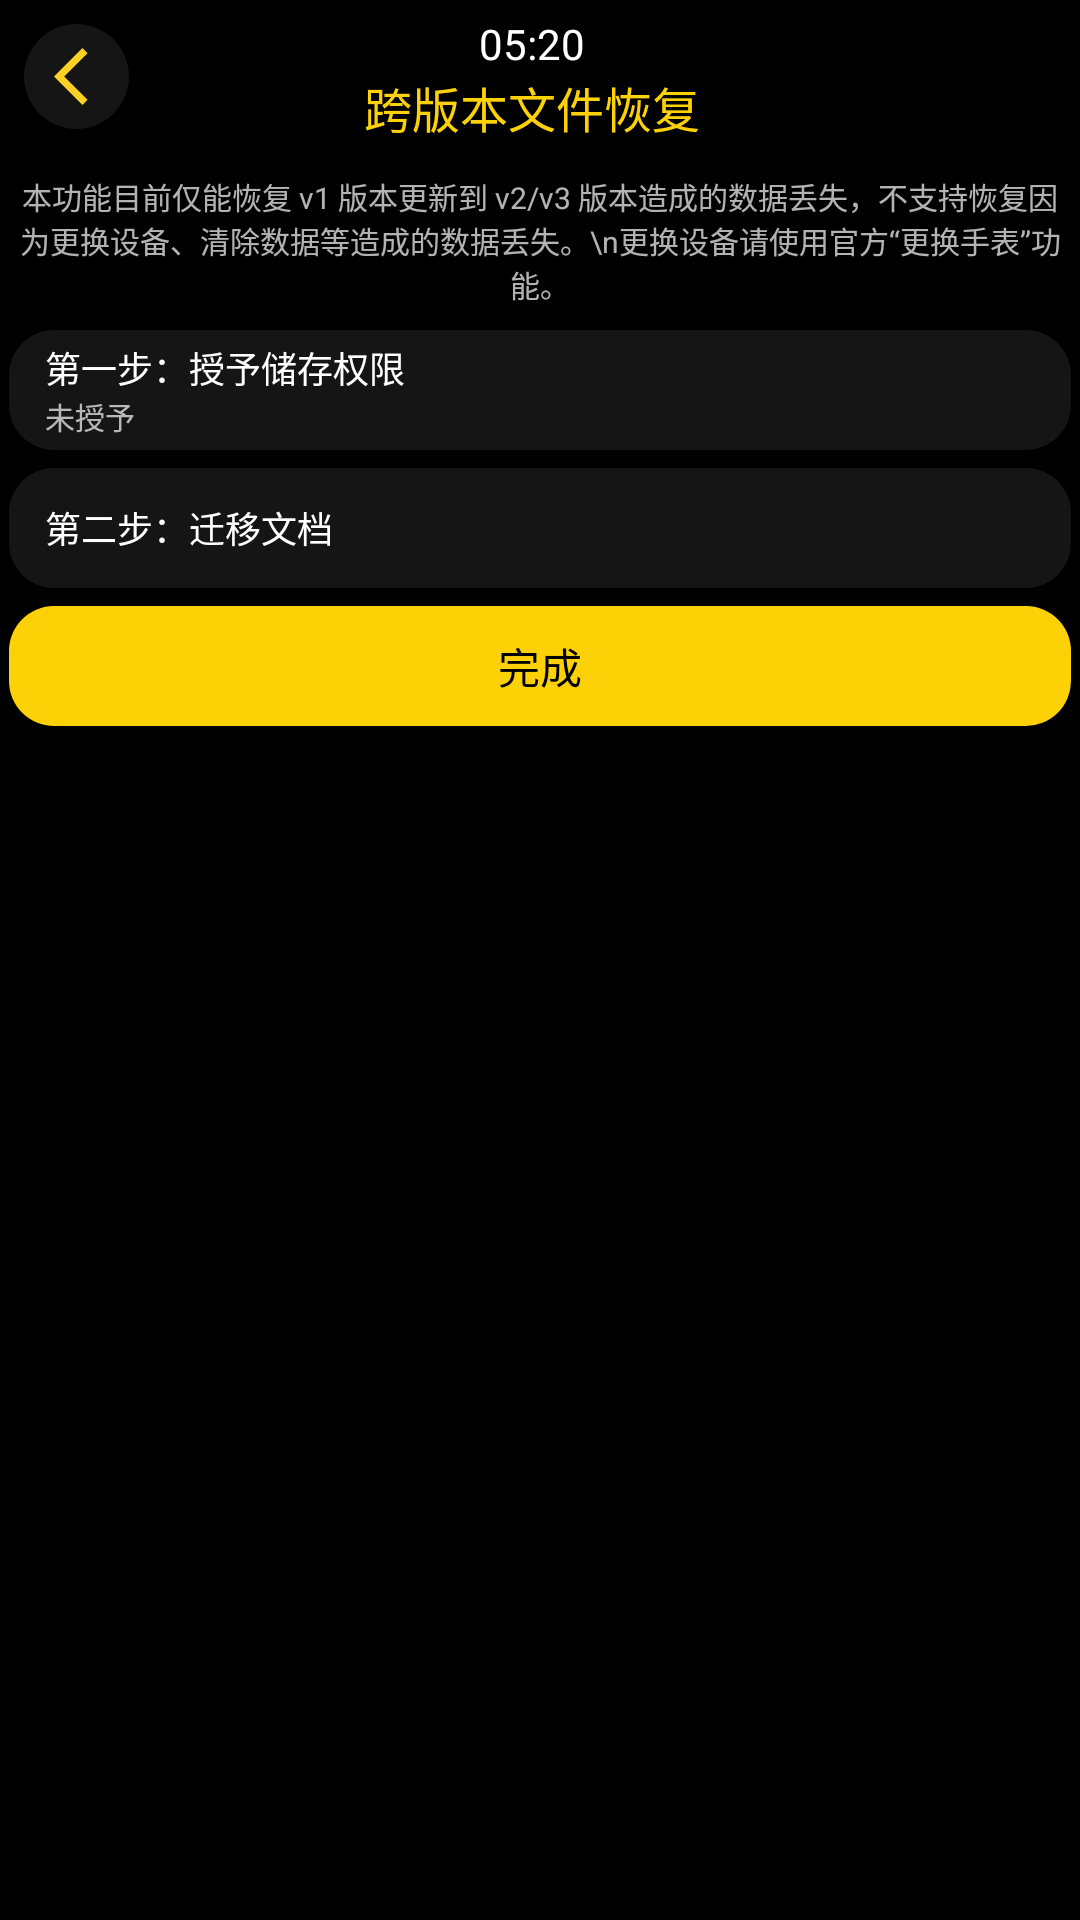

Locate icon controls on the screen. Image size 1080 × 1920, boxes as (x1, y1, x2, y2).
arrow back: (54, 48, 88, 105)
